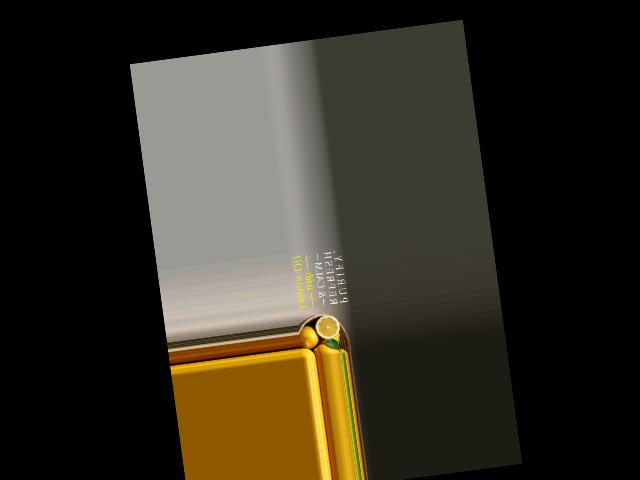lemon: (297, 325, 320, 349)
